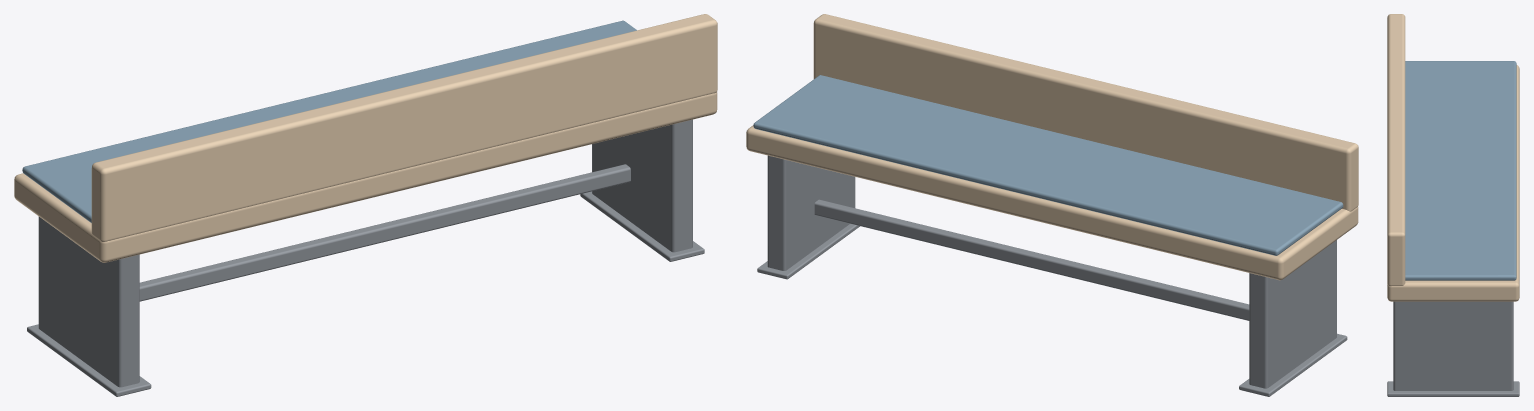
The model's file is waiting_bench.glb.
3 renders of one model, left to right at view 1: azimuth 30°, elevation 25°; view 2: azimuth 150°, elevation 25°; view 3: azimuth 270°, elevation 25°, orthographic. The views are drawn at different scales.
Parts seen in each view (by area): view 1: BenchBack, BenchSeat, BenchLeg_-1, BenchSeatCushion, BenchRail, BenchLeg_1, BenchFoot_-1, BenchFoot_1; view 2: BenchSeatCushion, BenchBack, BenchSeat, BenchLeg_-1, BenchRail, BenchLeg_1, BenchFoot_-1, BenchFoot_1; view 3: BenchSeatCushion, BenchLeg_1, BenchBack, BenchSeat, BenchFoot_1.
Boxes of the visible parts, x1,y1,x2,y2 form: BenchBack: (91, 14, 717, 241); BenchSeat: (14, 92, 717, 262); BenchLeg_-1: (38, 216, 139, 387); BenchSeatCushion: (22, 20, 636, 222); BenchRail: (139, 164, 630, 301); BenchLeg_1: (592, 119, 692, 252); BenchFoot_-1: (27, 324, 151, 396); BenchFoot_1: (580, 191, 704, 261); BenchSeatCushion: (753, 75, 1343, 255); BenchBack: (813, 14, 1358, 211); BenchSeat: (746, 125, 1358, 280); BenchLeg_-1: (1249, 240, 1336, 388); BenchRail: (814, 199, 1249, 320); BenchLeg_1: (767, 155, 855, 270); BenchFoot_-1: (1239, 333, 1347, 396); BenchFoot_1: (757, 224, 859, 279); BenchSeatCushion: (1405, 61, 1516, 280); BenchLeg_1: (1393, 301, 1513, 390); BenchBack: (1387, 14, 1405, 285); BenchSeat: (1387, 65, 1519, 301); BenchFoot_1: (1387, 381, 1519, 396).
Size of the model in its own units: 1.74 by 0.62 by 0.44.
